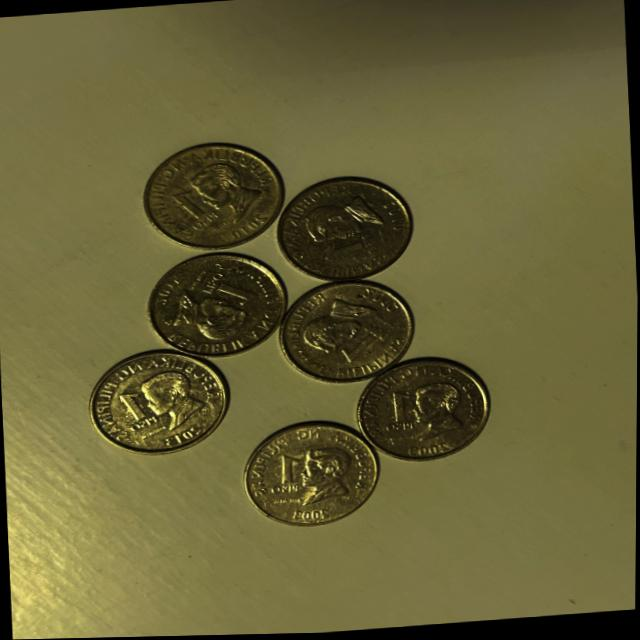1_Old_Front: (333, 312, 394, 369), (312, 226, 387, 265), (192, 268, 256, 312), (262, 448, 310, 500), (375, 386, 420, 437), (171, 184, 223, 227), (115, 386, 155, 435)
